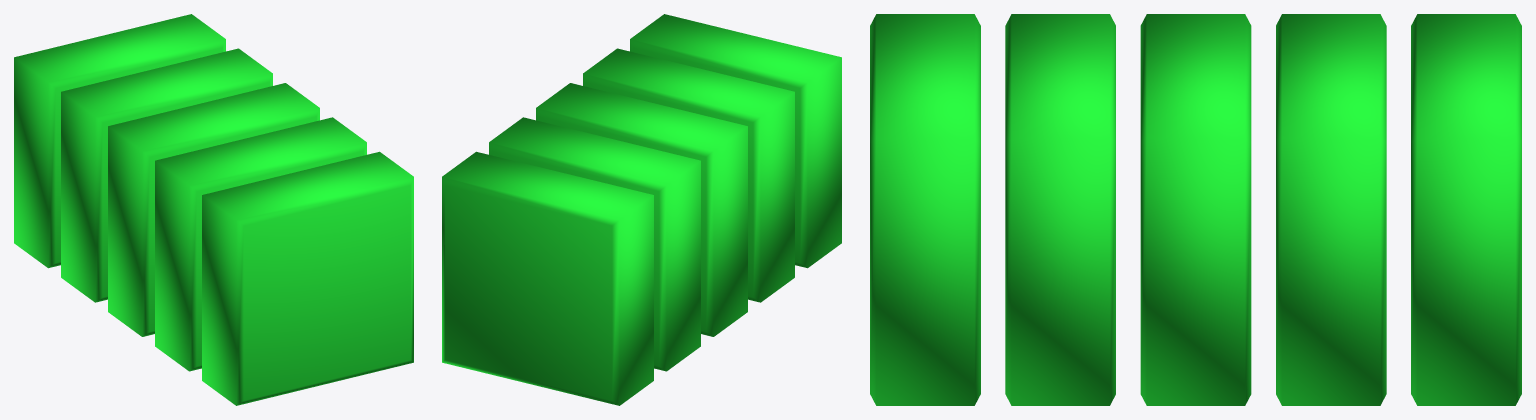
The model's file is Factory.fbx.
3 renders of one model, left to right at view 1: azimuth 30°, elevation 25°; view 2: azimuth 150°, elevation 25°; view 3: azimuth 270°, elevation 25°, orthographic. The views are drawn at different scales.
Parts seen in each view (by area): view 1: Cube; view 2: Cube; view 3: Cube.
Part boxes in pixels (x1,y1,x2,y2): Cube: (14,14,413,405); Cube: (442,14,841,405); Cube: (870,14,1521,405).
Bounding box in the file's own units: 2 × 2 × 4.42.
Materials: 1 (1 with a texture image).
